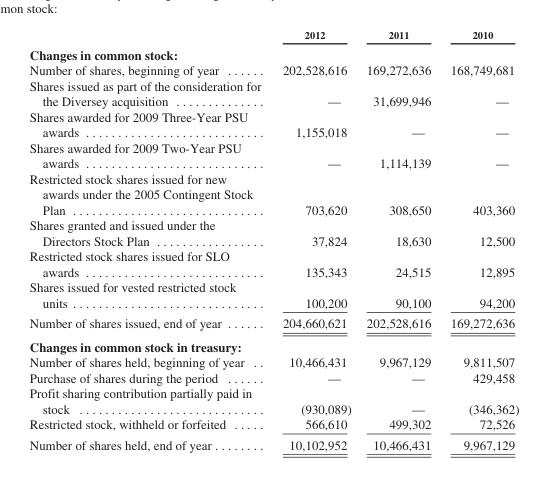table: (28, 28, 518, 451)
table column: (28, 28, 271, 451), (271, 28, 358, 451), (358, 28, 440, 451), (440, 28, 518, 451)
table column header: (28, 28, 518, 43)
table projected row header: (28, 334, 518, 354), (28, 43, 518, 62)
table row: (28, 170, 518, 217), (28, 279, 518, 312), (28, 77, 518, 108), (28, 108, 518, 139), (28, 139, 518, 170), (28, 217, 518, 248), (28, 248, 518, 279), (28, 385, 518, 416), (28, 312, 518, 334), (28, 334, 518, 354), (28, 43, 518, 62), (28, 416, 518, 434), (28, 434, 518, 451), (28, 369, 518, 385), (28, 28, 518, 43), (28, 62, 518, 77), (28, 354, 518, 369)
